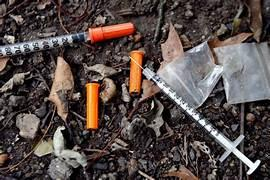Syringe: (140, 66, 259, 174), (0, 23, 134, 57)
